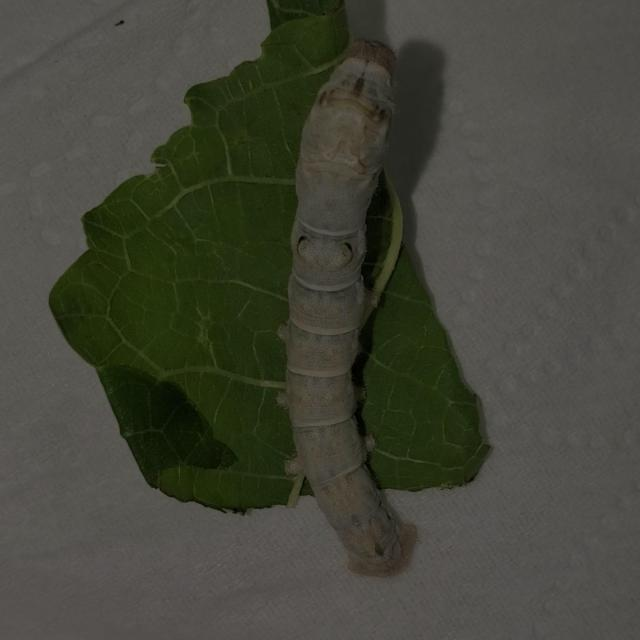Healthy: (261, 31, 443, 586)
